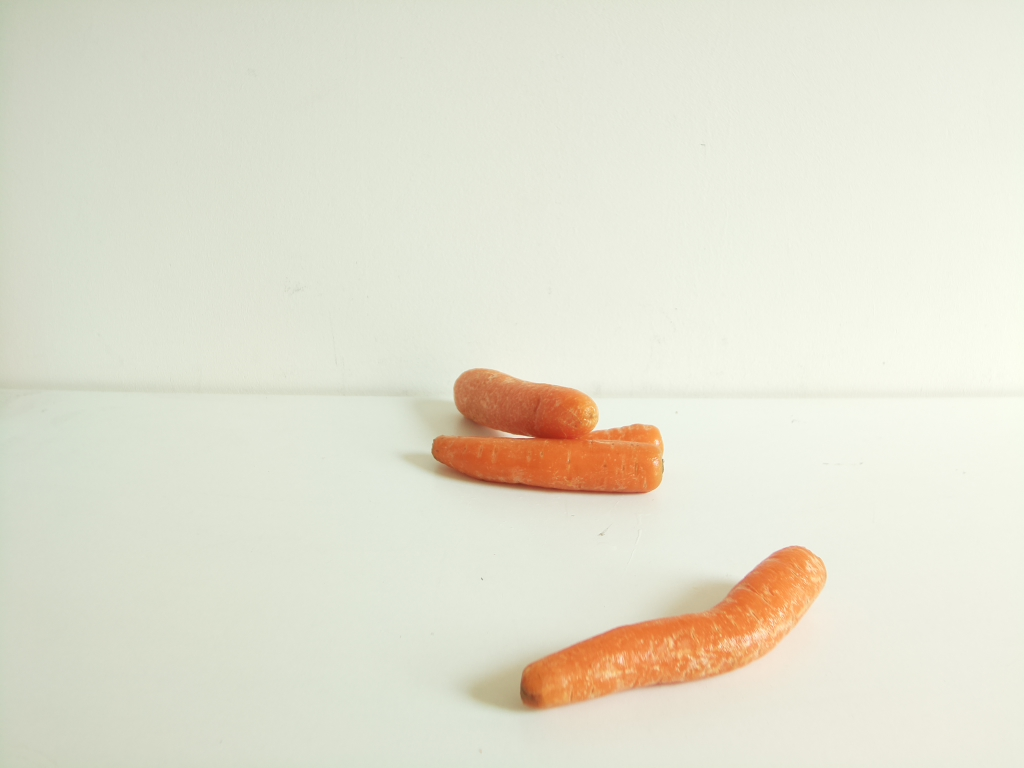carrot: (519, 545, 826, 712), (431, 368, 668, 498)
